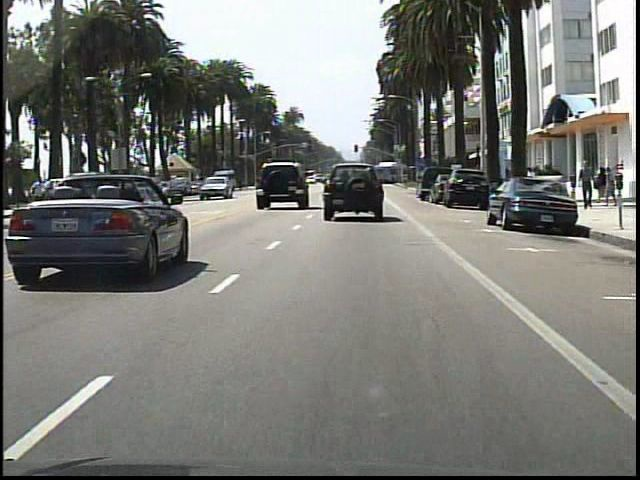person: (574, 155, 597, 213)
